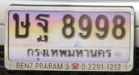txt12: (34, 13, 52, 43)
txt34: (12, 12, 32, 40)
